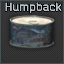Can of humpback salmon: (0, 0, 64, 64)
